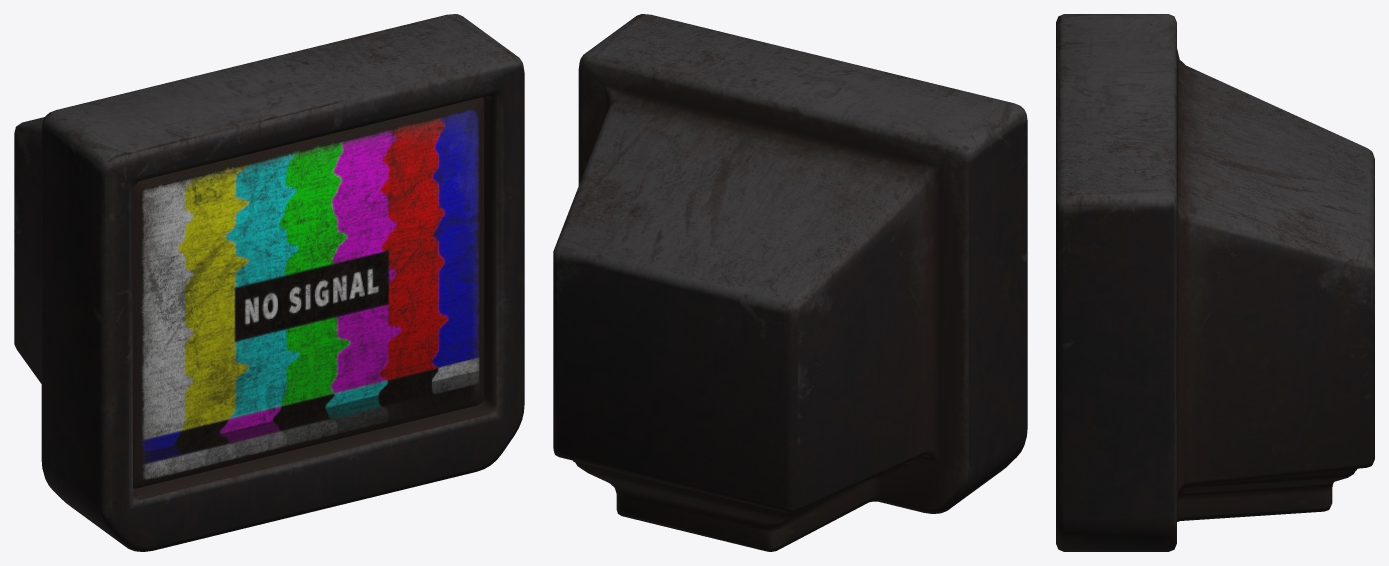
3 renders of one model, left to right at view 1: azimuth 30°, elevation 25°; view 2: azimuth 150°, elevation 25°; view 3: azimuth 270°, elevation 25°, orthographic. The views are drawn at different scales.
Visible parts, largest first — view 1: Box001; view 2: Box001; view 3: Box001.
Part boxes in pixels (<box>): Box001: <box>14,14,524,551</box>; Box001: <box>553,14,1027,551</box>; Box001: <box>1056,14,1374,551</box>.
Bounding box in the file's own units: 0.639 × 0.5865 × 0.4551.
1 material, 1 textured.
